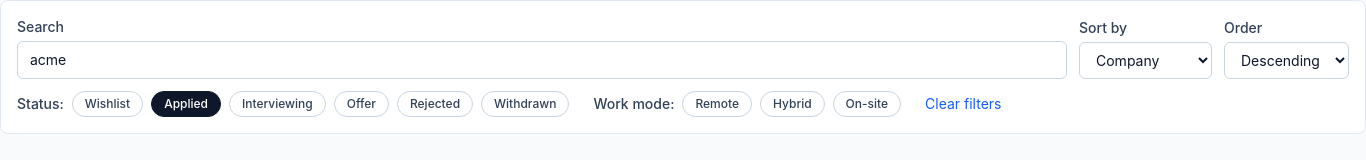
Test case: FilterBar › shows "Clear filters" only while something is filtered, and it resets the filters
This screenshot has width=1366, height=160.
Step 1. Click the button "Clear filters" → point(963, 104), box x1=925 y1=94 x2=1001 y2=114
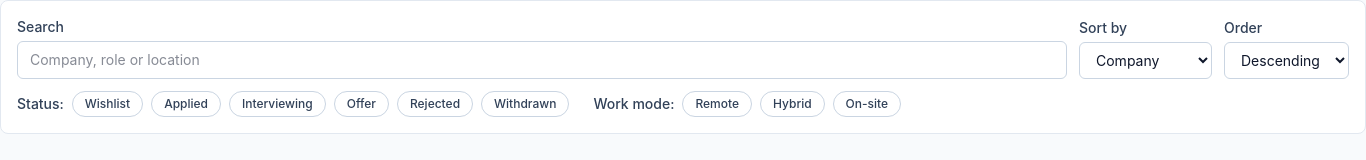
expect the dropdown labelled "Sort by" shows "Company": met, box x1=1079 y1=42 x2=1212 y2=79
expect the button "Clear filters" is gone: met
